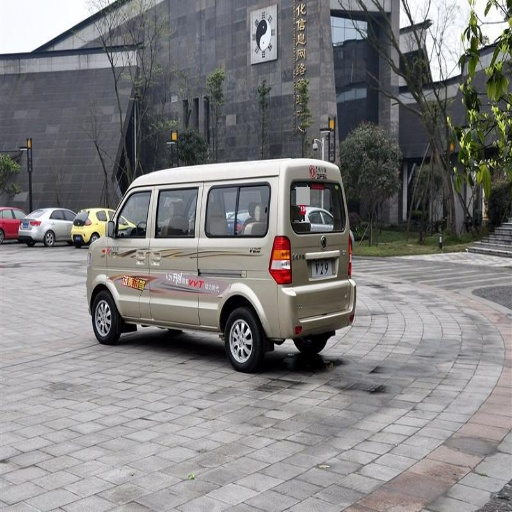trunk: (165, 168, 353, 336)
